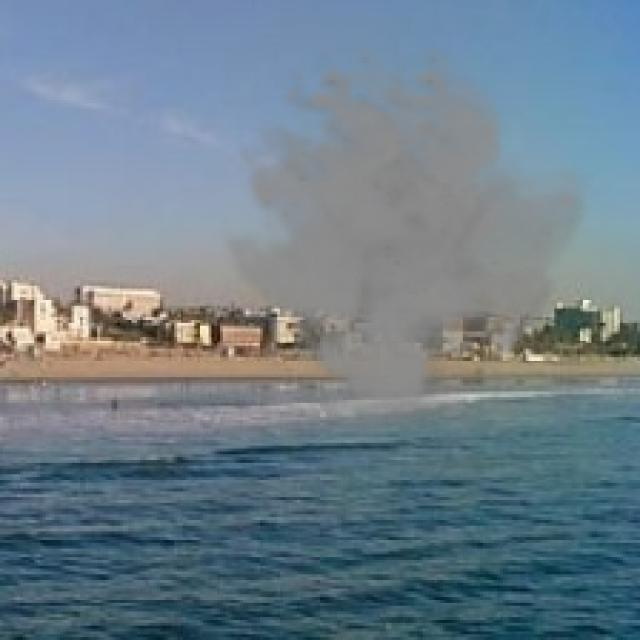smoke: (212, 43, 594, 420)
